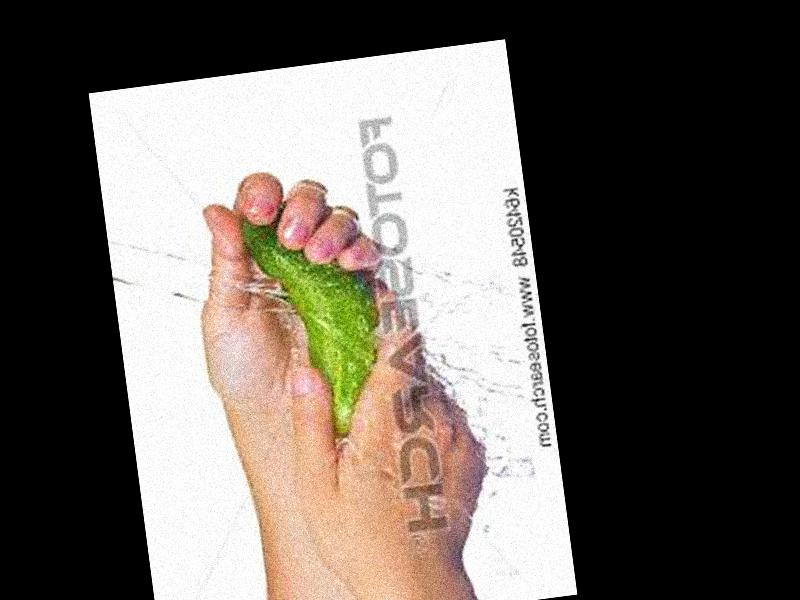Cucumber: (239, 201, 398, 452)
